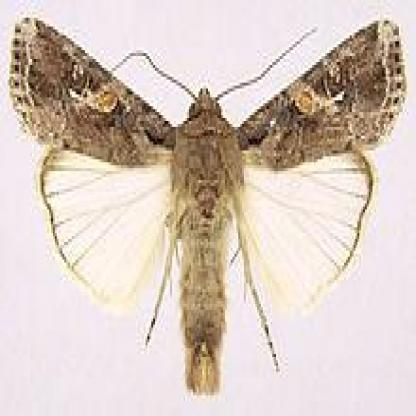armyworm: (8, 11, 410, 396)
